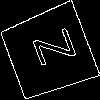Z: (24, 27, 76, 72)
